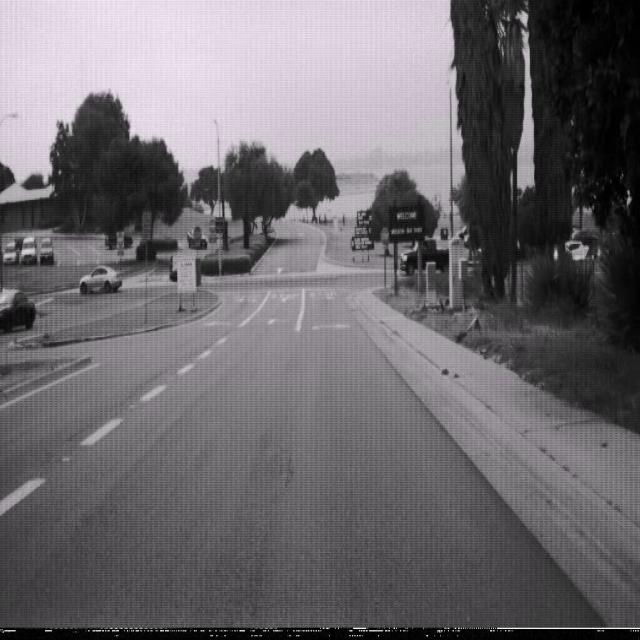stop_sign: (380, 226, 390, 247), (192, 224, 202, 243)
